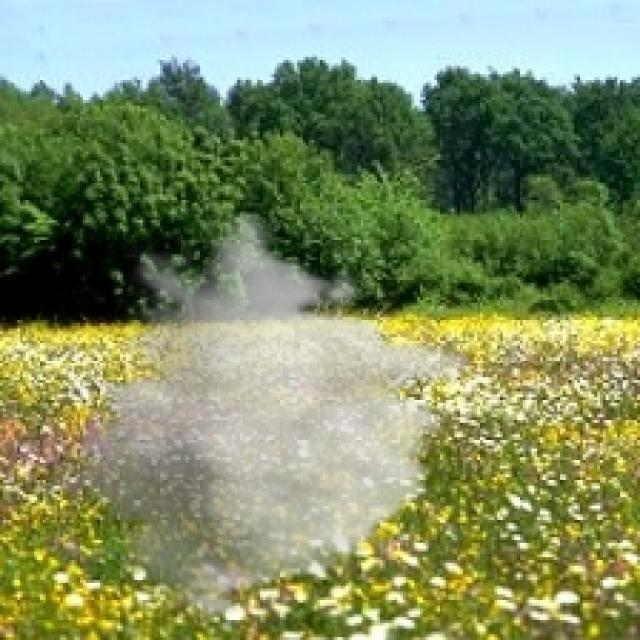Smoke: (57, 208, 477, 620)
